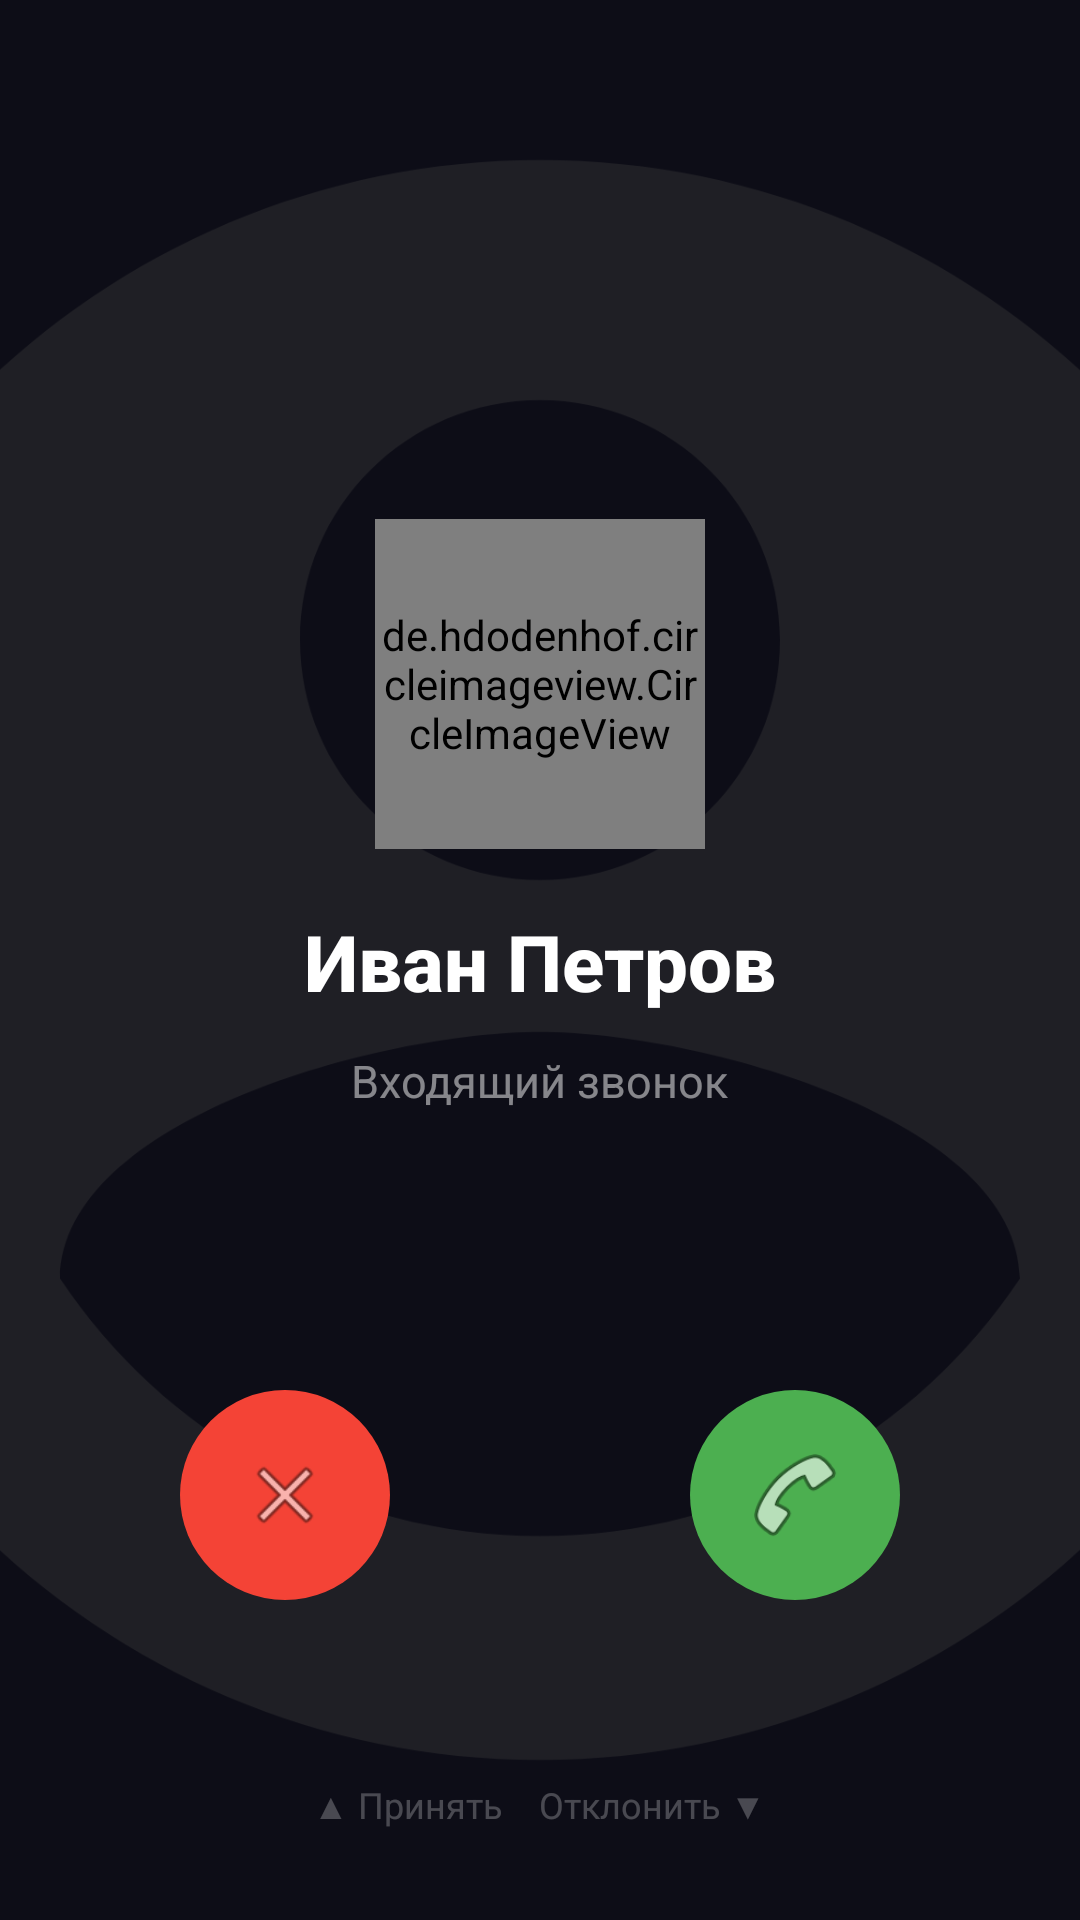

Point at icon controls on the screen. Image size 1080*1920, points as point (x, y).
call: point (795, 1495)
close clear cancel: point (285, 1495)
